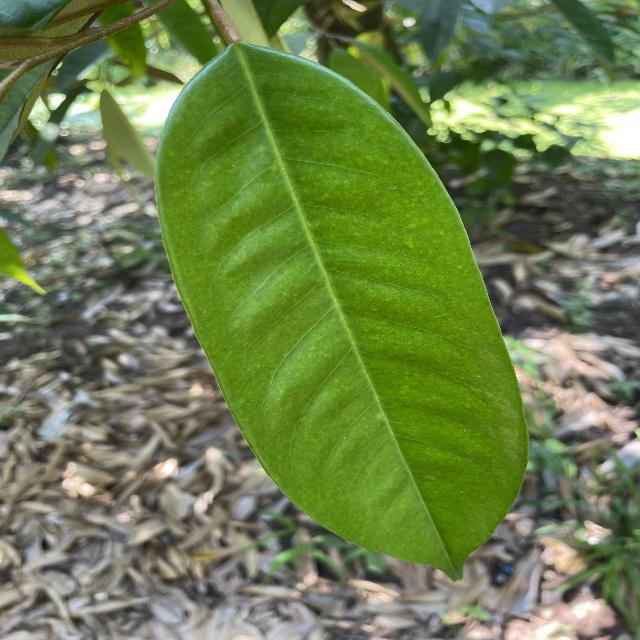No Disease: (149, 35, 535, 592)
